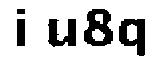8: (82, 6, 114, 50)
i: (8, 1, 32, 49)
q: (120, 15, 154, 58)
u: (43, 15, 79, 52)
